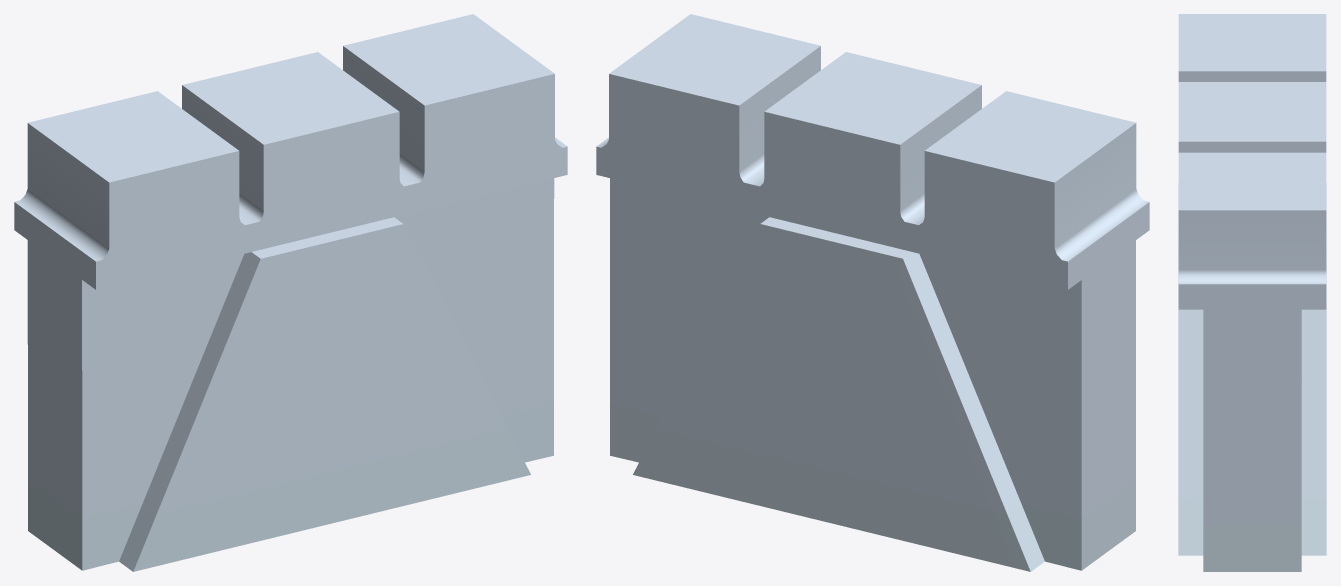
File: SS_Castle_GateClose.fbx
3 renders of one model, left to right at view 1: azimuth 30°, elevation 25°; view 2: azimuth 150°, elevation 25°; view 3: azimuth 270°, elevation 25°, orthographic. The views are drawn at different scales.
Visible parts, largest first — view 1: Castle_GateClose; view 2: Castle_GateClose; view 3: Castle_GateClose.
Boxes of the visible parts, bbox=[...] form: Castle_GateClose: bbox=[14, 14, 567, 571]; Castle_GateClose: bbox=[596, 14, 1149, 571]; Castle_GateClose: bbox=[1178, 14, 1326, 571].
Bounding box in the file's own units: 5 × 4 × 1.51.
